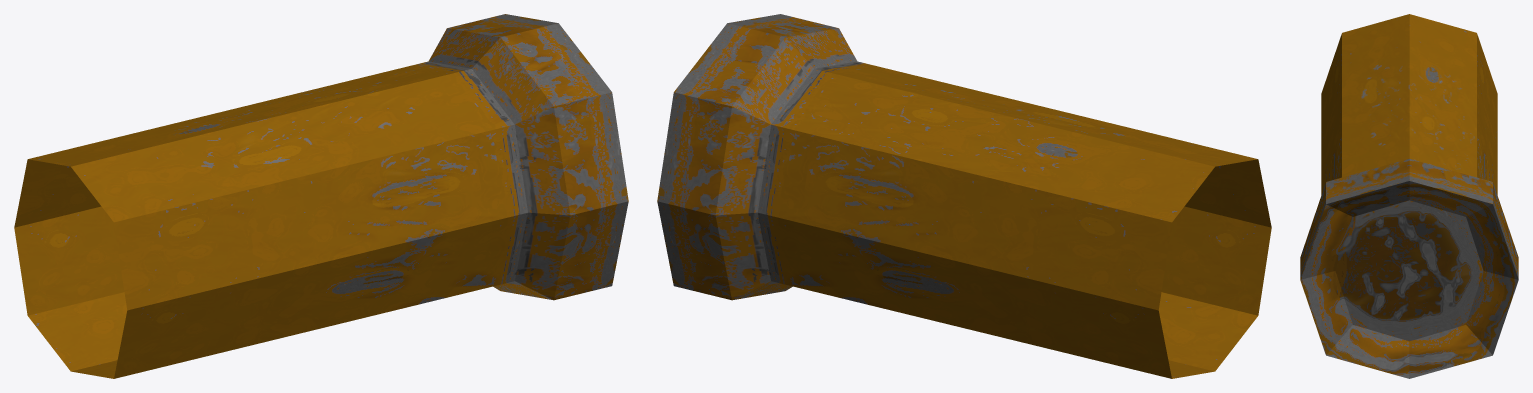
Rendered from pipe_medium_pipe.fbx.
3 renders of one model, left to right at view 1: azimuth 30°, elevation 25°; view 2: azimuth 150°, elevation 25°; view 3: azimuth 270°, elevation 25°, orthographic. The views are drawn at different scales.
Parts seen in each view (by area): view 1: Cube.026; view 2: Cube.026; view 3: Cube.026.
Boxes of the visible parts, bbox=[...] form: Cube.026: bbox=[14, 14, 628, 378]; Cube.026: bbox=[657, 14, 1271, 378]; Cube.026: bbox=[1300, 14, 1518, 378].
Bounding box in the file's own units: 320 × 159 × 159.
